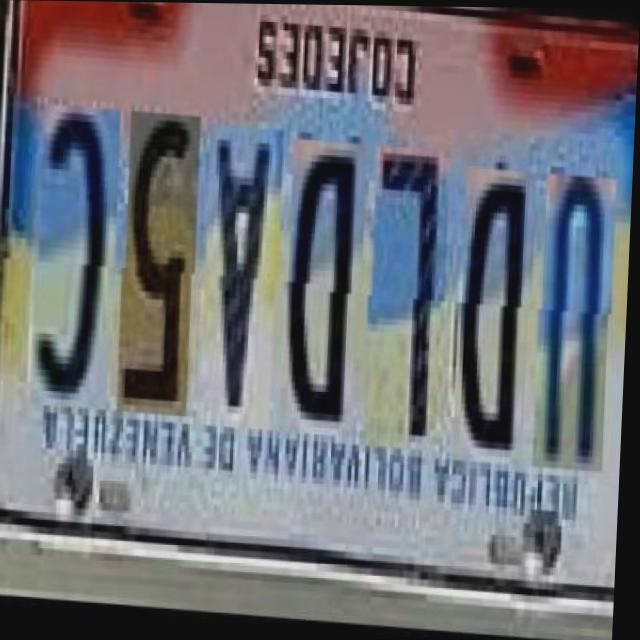5: (118, 118, 201, 422)
a: (198, 130, 284, 436)
c: (31, 111, 120, 418)
d: (282, 143, 367, 441), (456, 168, 536, 466)
l: (365, 147, 451, 454)
u: (535, 173, 617, 471)
